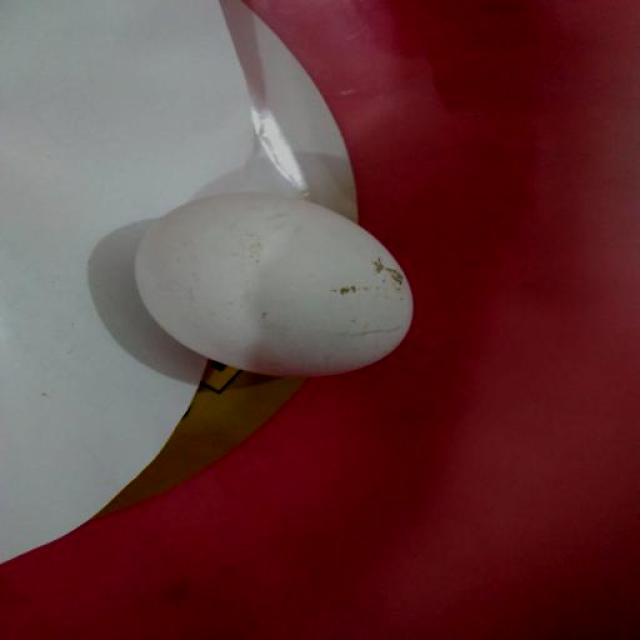telur: (136, 191, 416, 377)
